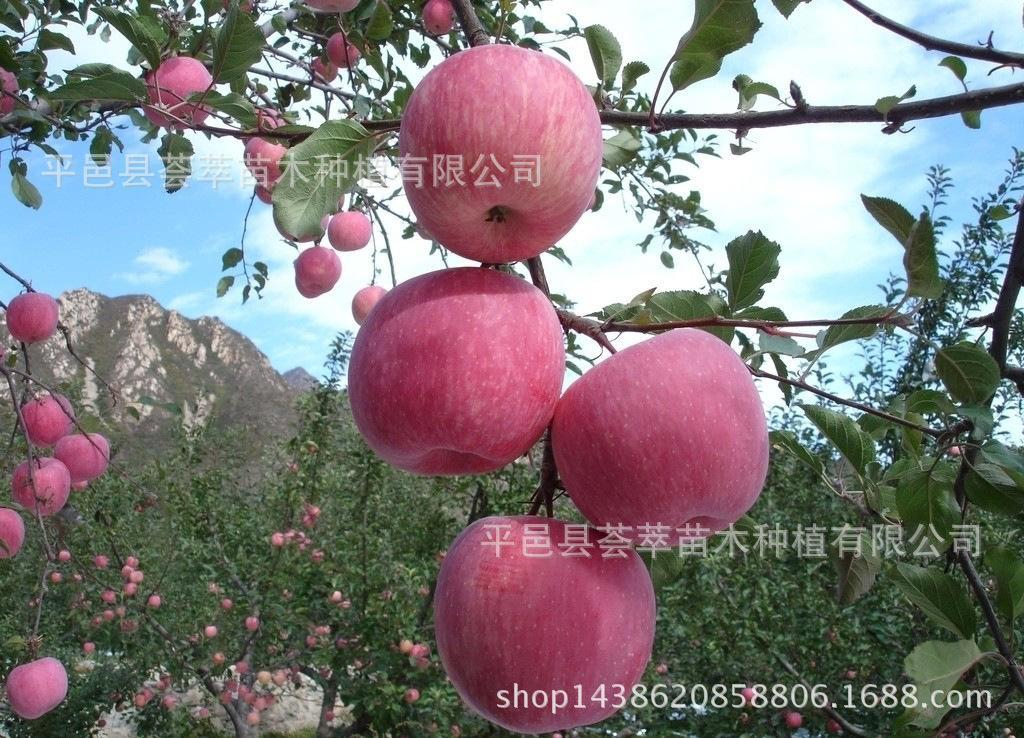apple: (432, 514, 658, 732), (395, 39, 604, 269), (549, 326, 771, 542), (348, 268, 567, 478)
